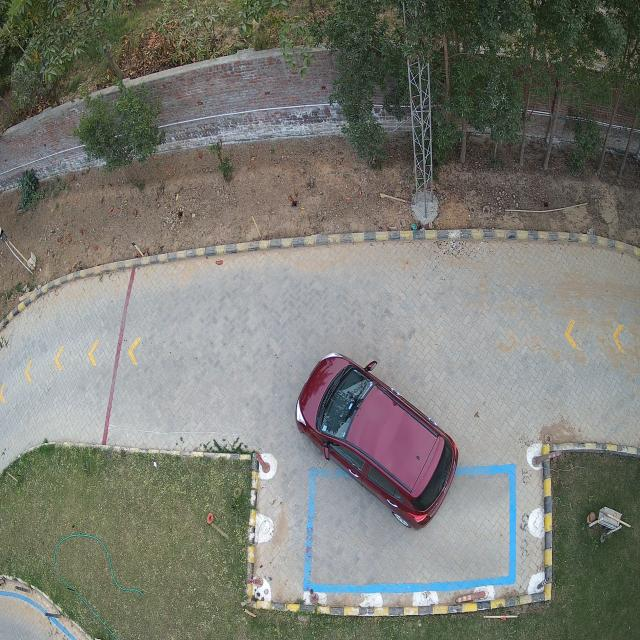car: (296, 356, 458, 529)
